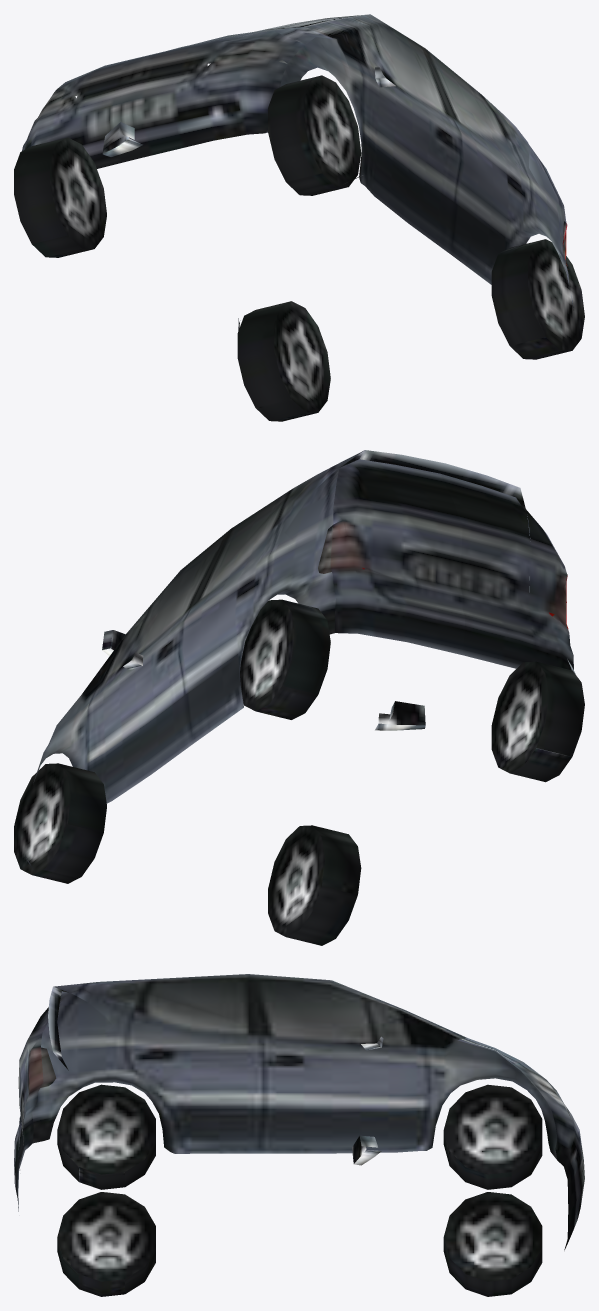
3 views of the same model, one above another, from view 1: azimuth 30°, elevation 25°; view 2: azimuth 150°, elevation 25°; view 3: azimuth 270°, elevation 25° (orthographic). The views are drawn at different scales.
Visible parts, largest first — view 1: taxi02, tyre1, tyre4, tyre3, tyre2; view 2: taxi02, tyre1, tyre3, tyre4, tyre2; view 3: taxi02, tyre4, tyre3, tyre1, tyre2.
Part boxes in pixels (x1,y1,x2,y2): taxi02: (22,14,573,330); tyre1: (237,301,330,421); tyre4: (268,75,361,195); tyre3: (14,137,106,257); tyre2: (491,239,584,359); taxi02: (25,450,575,871); tyre1: (491,661,584,782); tyre3: (268,825,361,945); tyre4: (14,763,106,883); tyre2: (240,599,330,719); taxi02: (14,974,584,1250); tyre4: (443,1192,542,1296); tyre3: (443,1084,542,1189); tyre1: (57,1084,155,1189); tyre2: (57,1192,155,1296).
Size of the model in its own units: 0.635 by 0.501 by 1.13.
Materials: 1 (1 with a texture image).
